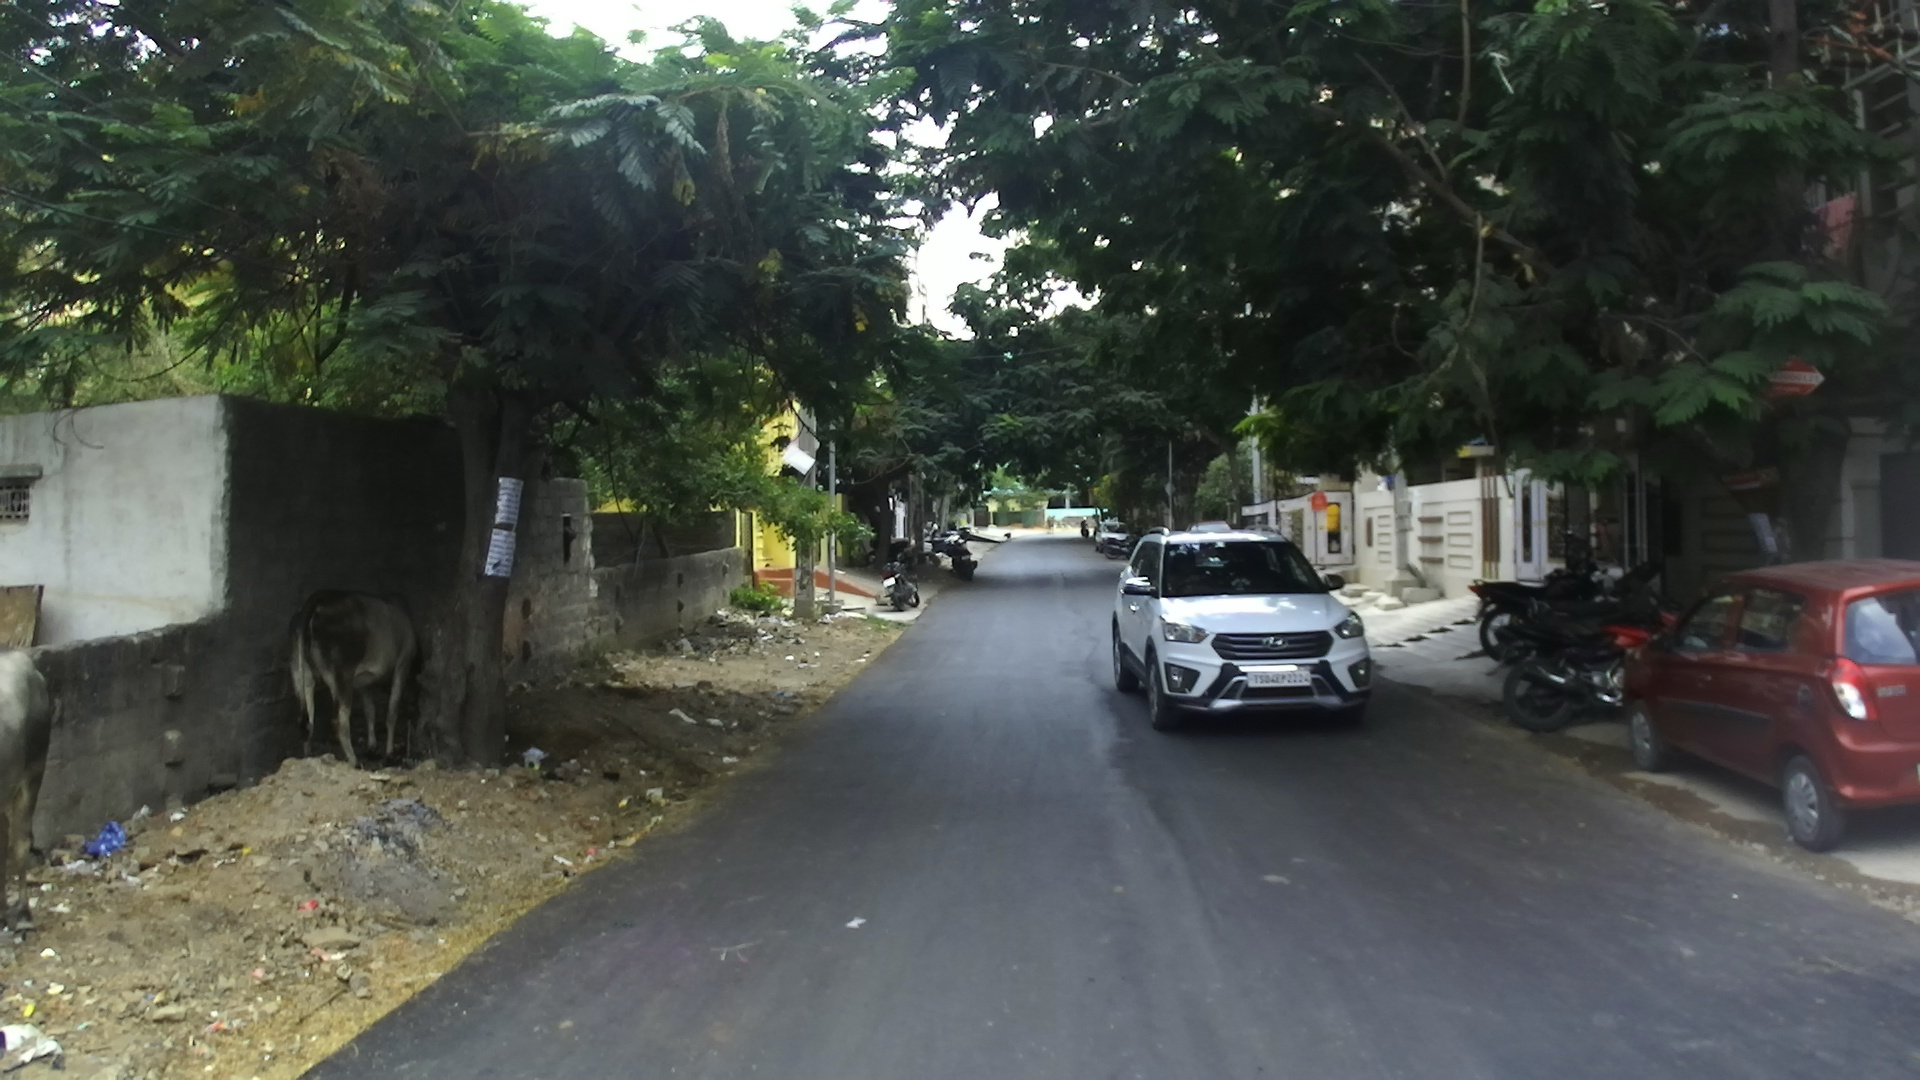vehicle: (0, 392, 477, 866), (1615, 556, 1917, 853), (1108, 527, 1375, 731), (1487, 579, 1665, 732), (926, 531, 976, 575), (873, 575, 922, 611), (1089, 524, 1131, 559)
